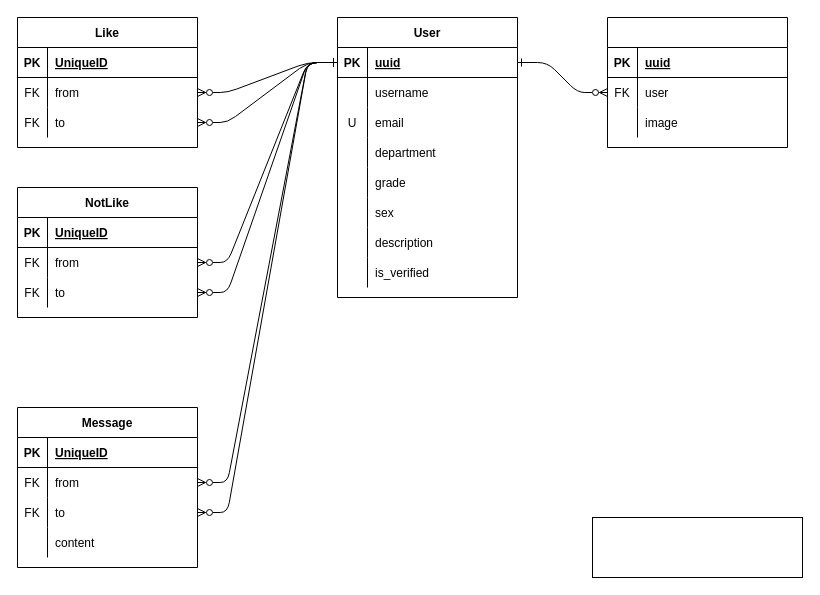
Image size: 820x595. Some labels were removed from this diagram. Here are the shapes that lost their labels. From the top down, the box of each, then its label:
(606, 16, 788, 148): UserImage
(592, 516, 802, 578): 略) created_at, updated_at
